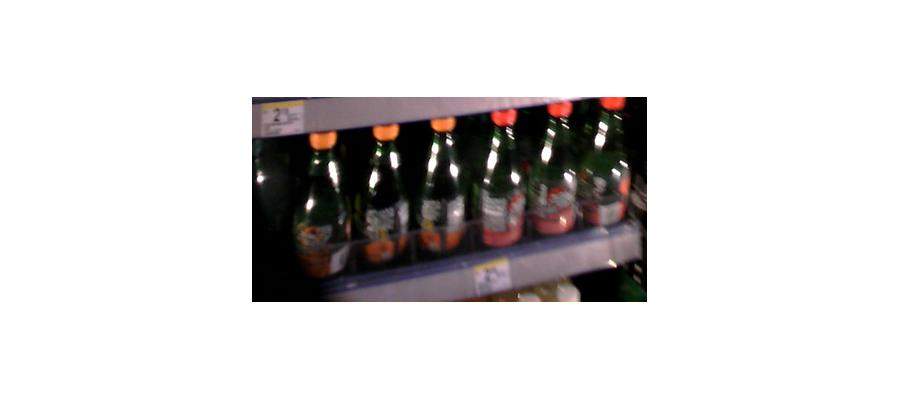bottle: (294, 127, 348, 285), (359, 123, 411, 269), (417, 119, 468, 260), (476, 107, 525, 249), (576, 107, 627, 238), (527, 109, 577, 240)
